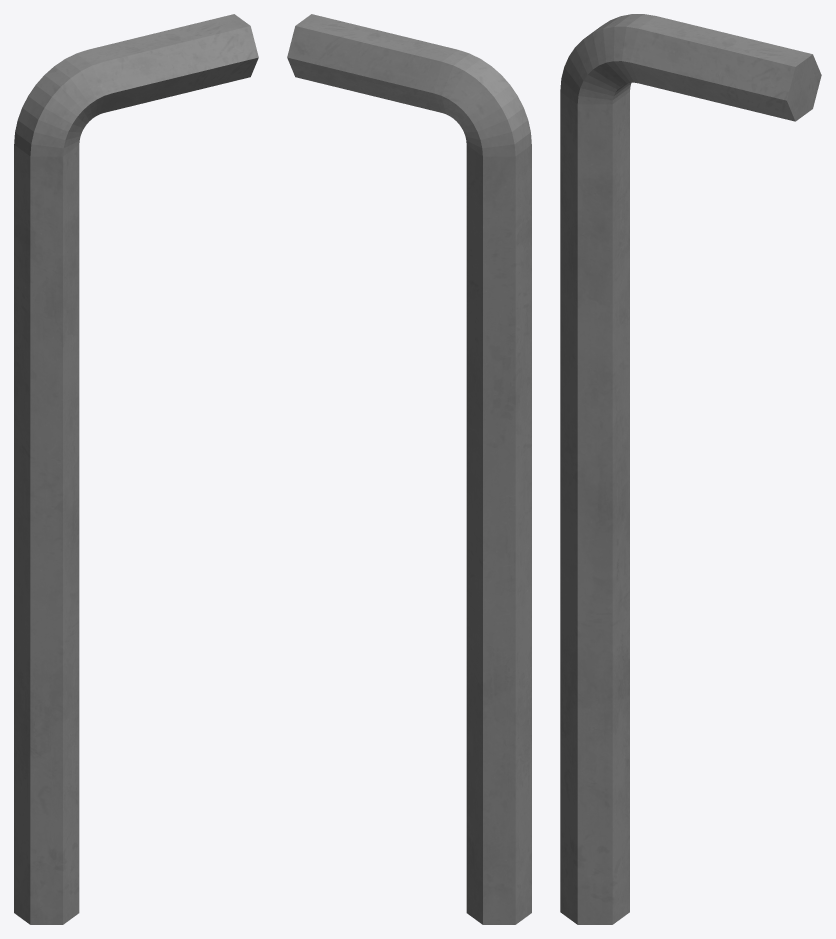
The model's file is allen_wrench.glb.
3 renders of one model, left to right at view 1: azimuth 30°, elevation 25°; view 2: azimuth 150°, elevation 25°; view 3: azimuth 330°, elevation 25°, orthographic. The views are drawn at different scales.
Parts seen in each view (by area): view 1: Object_2; view 2: Object_2; view 3: Object_2.
Boxes of the visible parts, left/top/right/bottom form: Object_2: left=14, top=14, right=258, bottom=924; Object_2: left=287, top=14, right=531, bottom=924; Object_2: left=560, top=14, right=821, bottom=924.
Bounding box in the file's own units: 28.58 × 105 × 7.33.
1 material, 1 textured.
